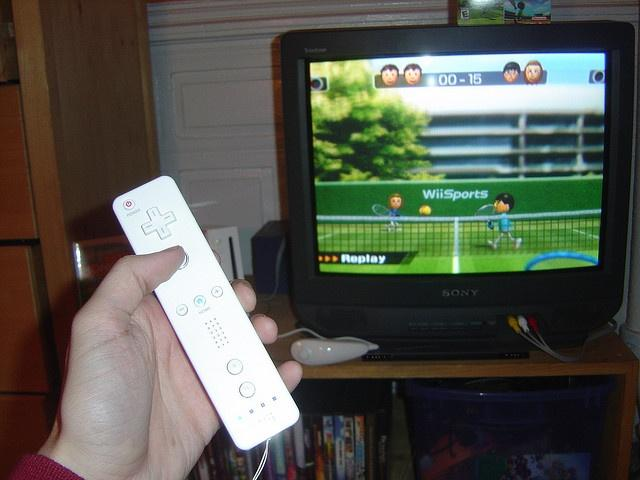AIO PC-Monitor-TV: (278, 20, 636, 359)
